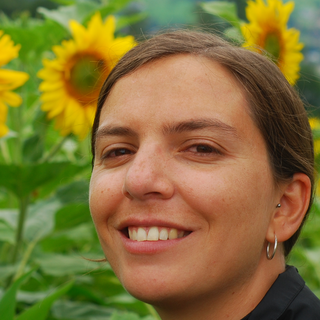eye: (176, 135, 225, 164), (97, 141, 141, 165)
